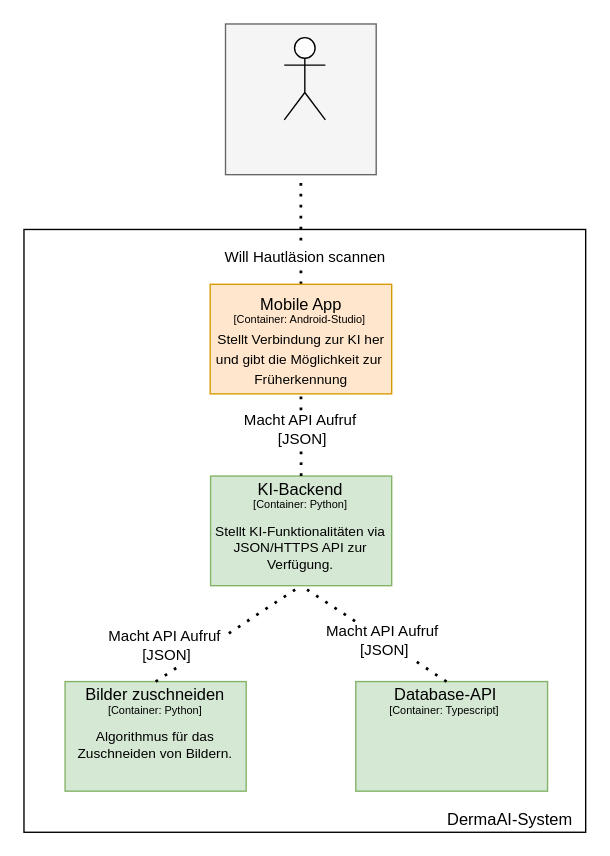
Some shapes in this 610 by 856 pixel diagram are drawn without their labels. Here are the shapes that lost their labels. From the top down, the box of each, then its label:
(283, 36, 325, 120): Benutzer
(354, 680, 548, 791): Stellt Datenbankfuntkionen mittels JSON/HTTP API zur Verfügung.
